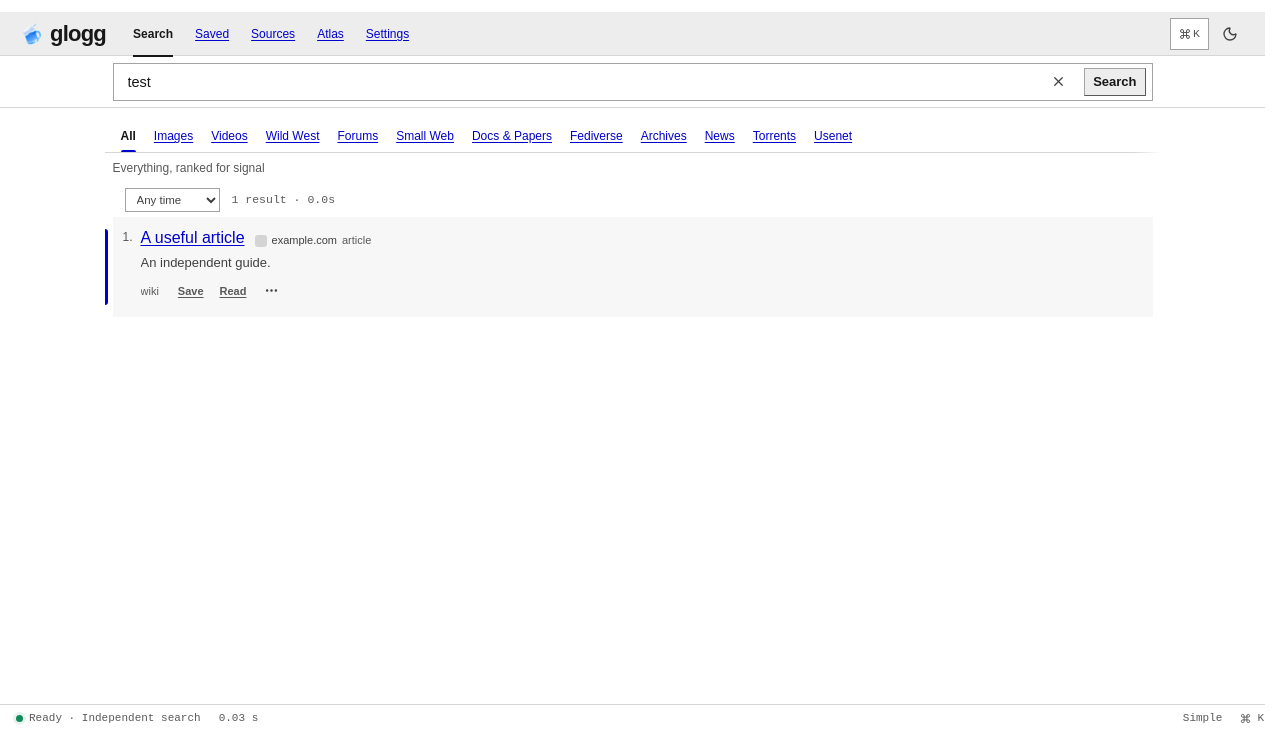
capability-aware workspace › does not claim success when local saving fails
What coordinates should you click on to do the following:
click the button with aria-label "Save A useful article"
I would click on:
 (191, 291)
Its box is [171, 278, 210, 304].
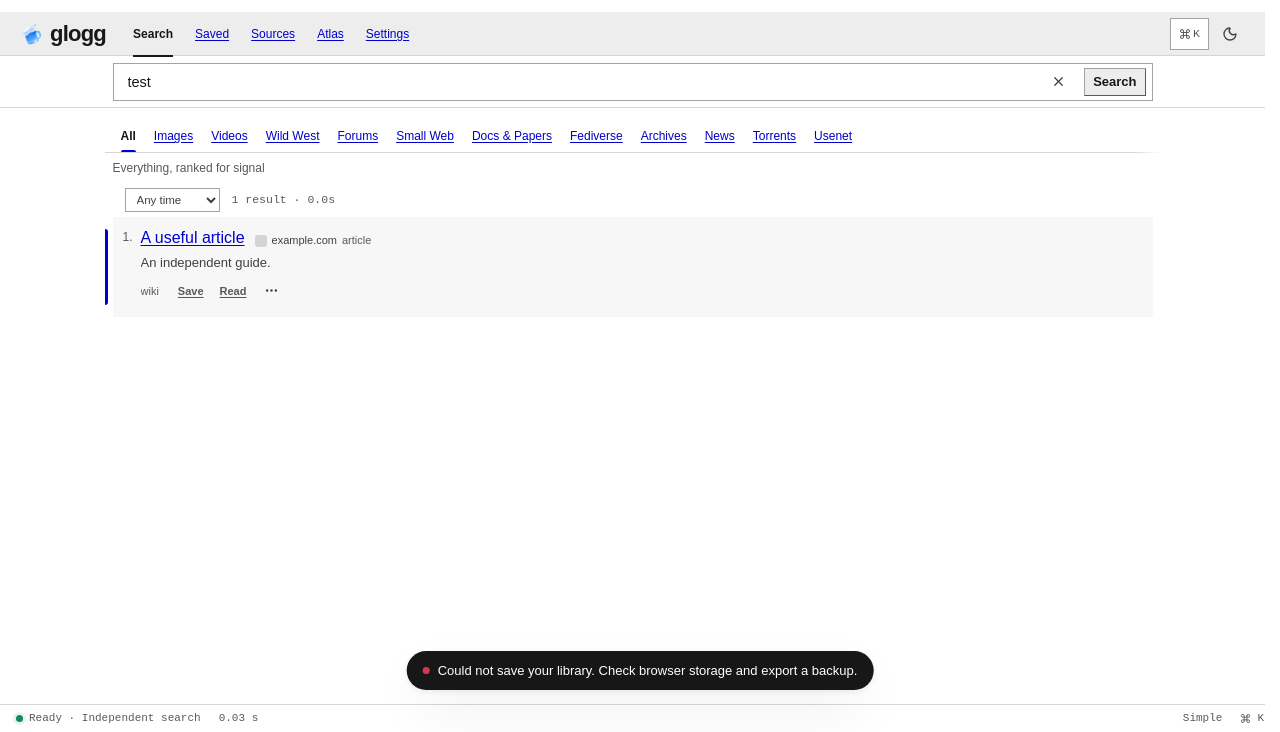
Check: the text "Could not save" is shown, box [438, 662, 857, 678]
